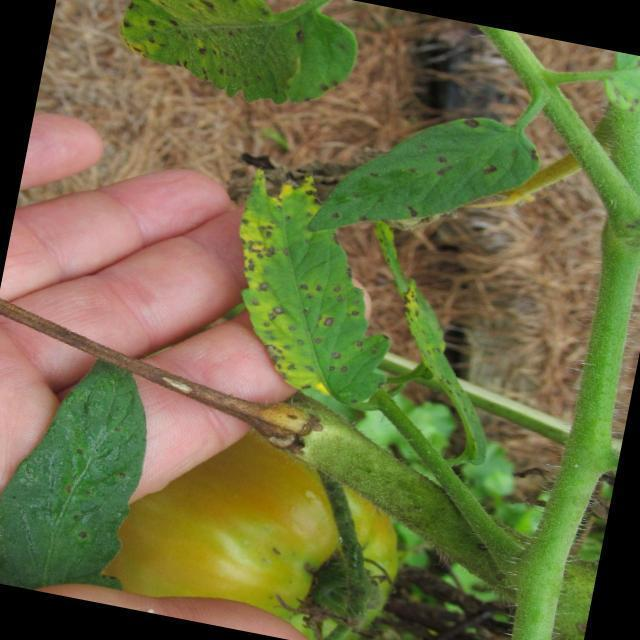Bacterial Spot: (201, 164, 421, 415), (311, 74, 547, 274), (112, 0, 363, 116), (27, 411, 143, 571), (597, 50, 640, 127)
